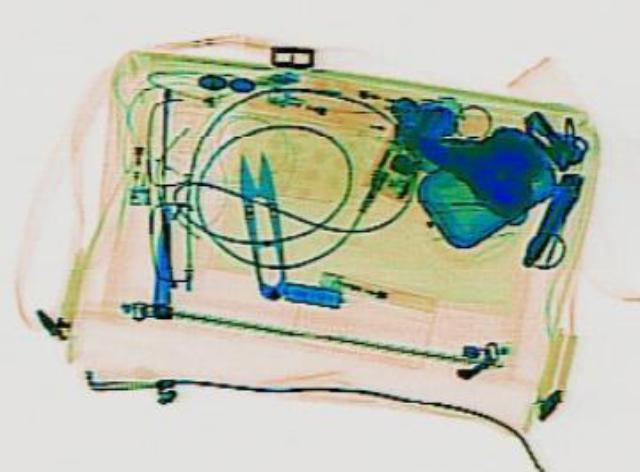Scissors: (229, 148, 293, 298)
